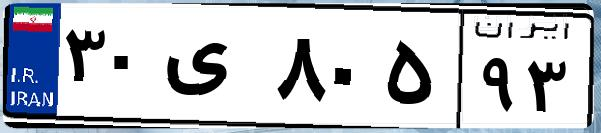0: (330, 28, 385, 110), (110, 28, 158, 98)
3: (57, 26, 110, 100), (525, 38, 570, 115)
5: (385, 28, 445, 110)
8: (270, 28, 330, 110)
9: (475, 38, 525, 113)
ی: (158, 20, 270, 120)
